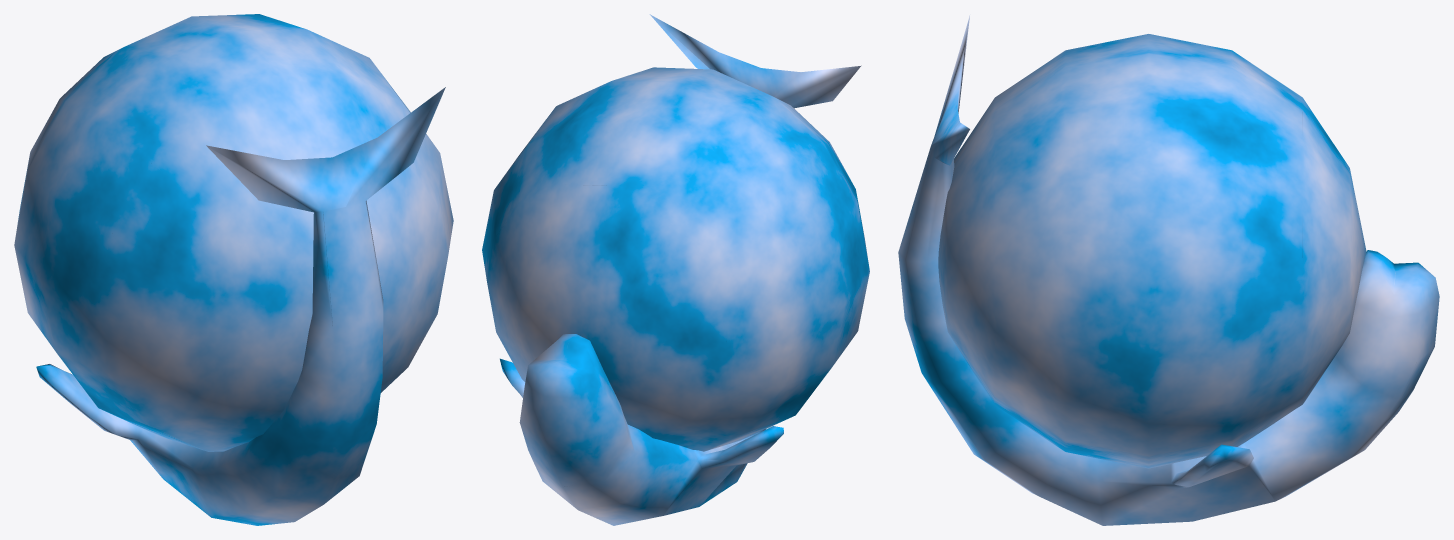
The model's file is RelicBall Pesut.fbx.
3 renders of one model, left to right at view 1: azimuth 30°, elevation 25°; view 2: azimuth 150°, elevation 25°; view 3: azimuth 270°, elevation 25°, orthographic. The views are drawn at different scales.
Visible parts, largest first — view 1: Relic Pesut; view 2: Relic Pesut; view 3: Relic Pesut.
Part boxes in pixels (<box>): Relic Pesut: <box>14,14,453,525</box>; Relic Pesut: <box>482,14,869,525</box>; Relic Pesut: <box>898,15,1439,525</box>.
Bounding box in the file's own units: 32.83 × 39.03 × 40.84.
1 material, 1 textured.
